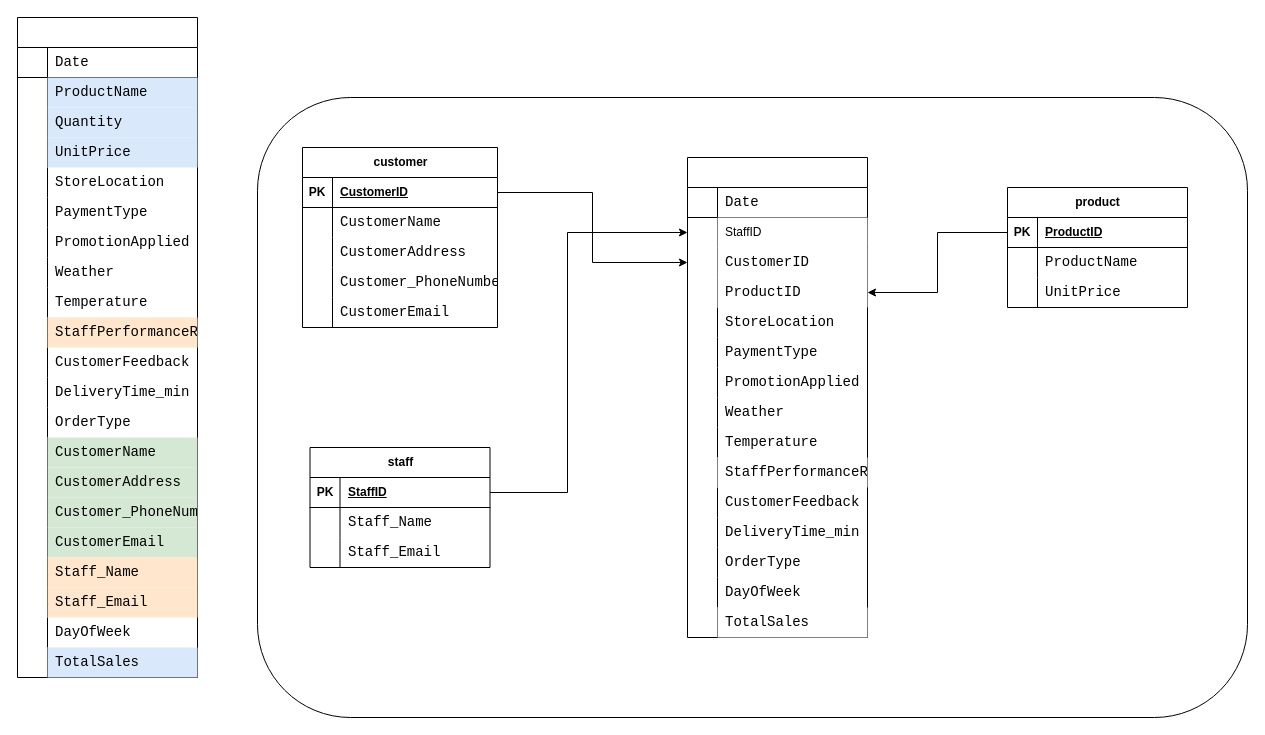
This 1265x735 diagram has some shape labels left out. Here are the shapes that lost their labels. From the top down, the box of each, then its label:
(16, 16, 198, 678): Table
(686, 156, 868, 638): fact
